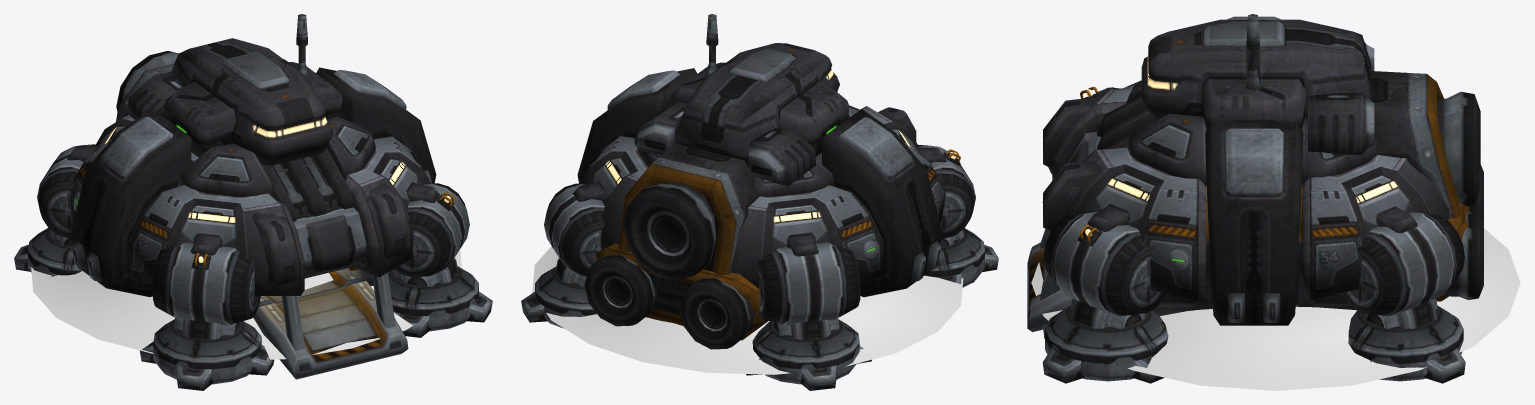
Rendered from CommandCenterEx1.glb.
The picture shows the model from 3 angles, left to right: view 1: azimuth 30°, elevation 25°; view 2: azimuth 150°, elevation 25°; view 3: azimuth 270°, elevation 25°; orthographic projection. The views are drawn at different scales.
Visible parts, largest first — view 1: Mesh.005, Sphere01distortion02, Mesh.003; view 2: Mesh.005, Sphere01distortion02; view 3: Mesh.005, Sphere01distortion02, Mesh.003.
Boxes of the visible parts, bbox=[...] form: Mesh.005: bbox=[14, 14, 492, 390]; Sphere01distortion02: bbox=[31, 250, 461, 359]; Mesh.003: bbox=[191, 192, 454, 269]; Mesh.005: bbox=[521, 14, 998, 390]; Sphere01distortion02: bbox=[532, 246, 963, 374]; Mesh.005: bbox=[1027, 14, 1483, 383]; Sphere01distortion02: bbox=[1031, 228, 1520, 390]; Mesh.003: bbox=[1077, 86, 1102, 246].
Size of the model in its own units: 5.61 by 3.79 by 5.41.
7 materials, 6 textured.
